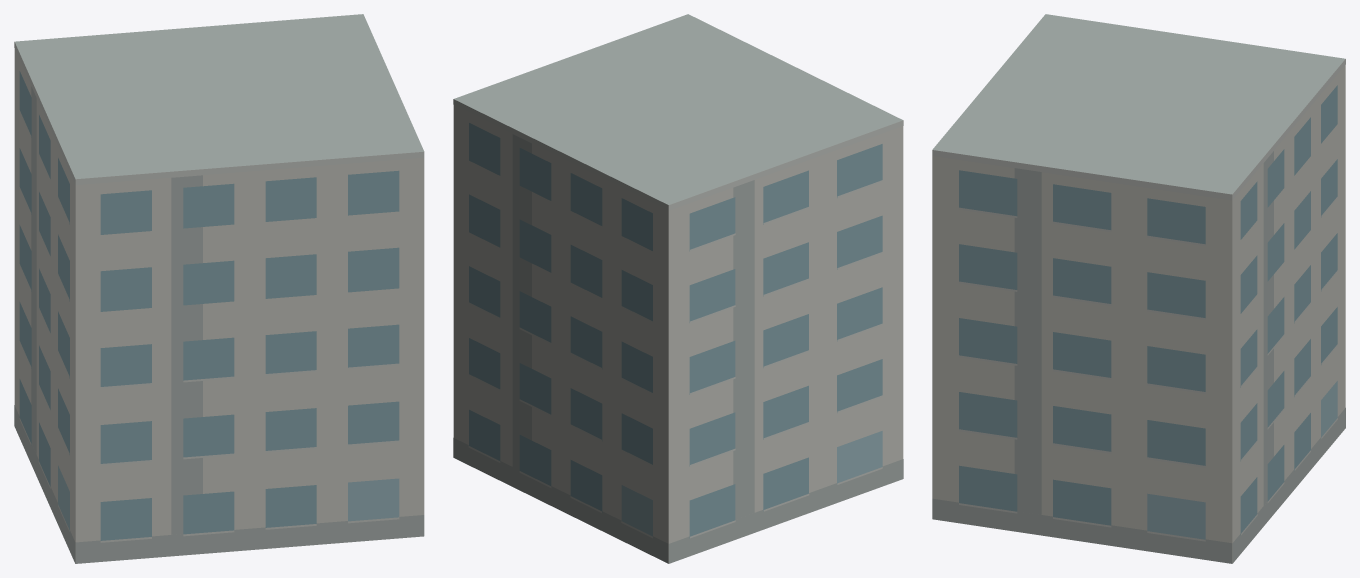
The model's file is residential-0b5d132b-eef7-4c5a-9f9f-c328b0b26af8.glb.
3 views of the same model, side by side, from view 1: azimuth 30°, elevation 25°; view 2: azimuth 150°, elevation 25°; view 3: azimuth 270°, elevation 25° (orthographic). The views are drawn at different scales.
Visible parts, largest first — view 1: residential-0b5d132b-eef7-4c5a-9f9f-c328b0b26af8.tmp; view 2: residential-0b5d132b-eef7-4c5a-9f9f-c328b0b26af8.tmp; view 3: residential-0b5d132b-eef7-4c5a-9f9f-c328b0b26af8.tmp.
Boxes of the visible parts, x1,y1,x2,y2 form: residential-0b5d132b-eef7-4c5a-9f9f-c328b0b26af8.tmp: (14,14,424,563); residential-0b5d132b-eef7-4c5a-9f9f-c328b0b26af8.tmp: (453,14,903,563); residential-0b5d132b-eef7-4c5a-9f9f-c328b0b26af8.tmp: (932,14,1345,563).
Bounding box in the file's own units: 16 × 15.25 × 15.48.
